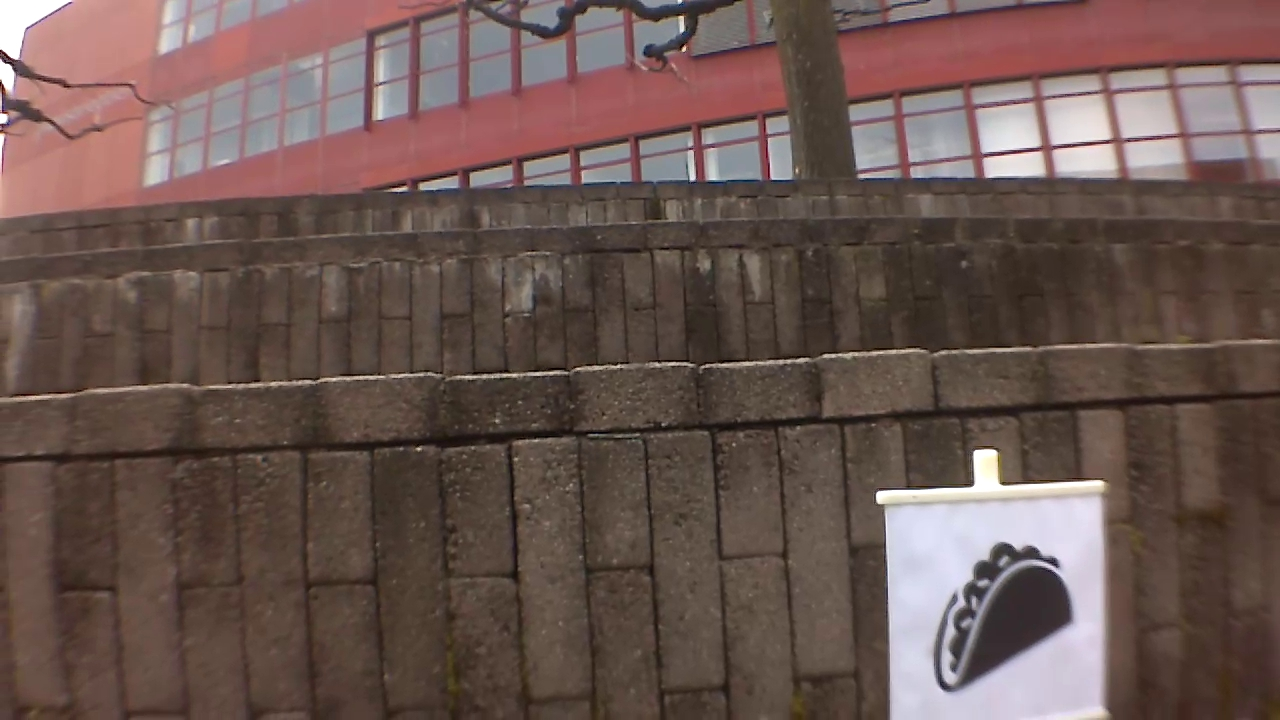taco: (913, 529, 1084, 703)
